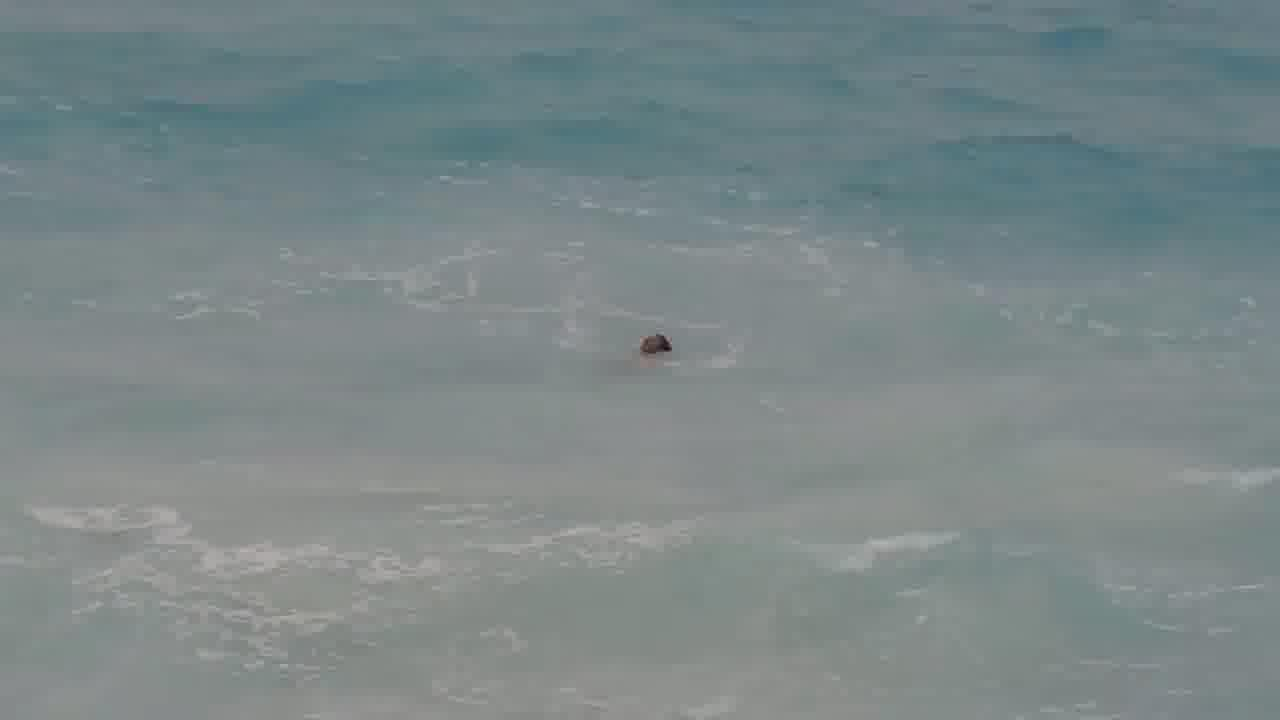swimmer: (621, 327, 679, 371)
